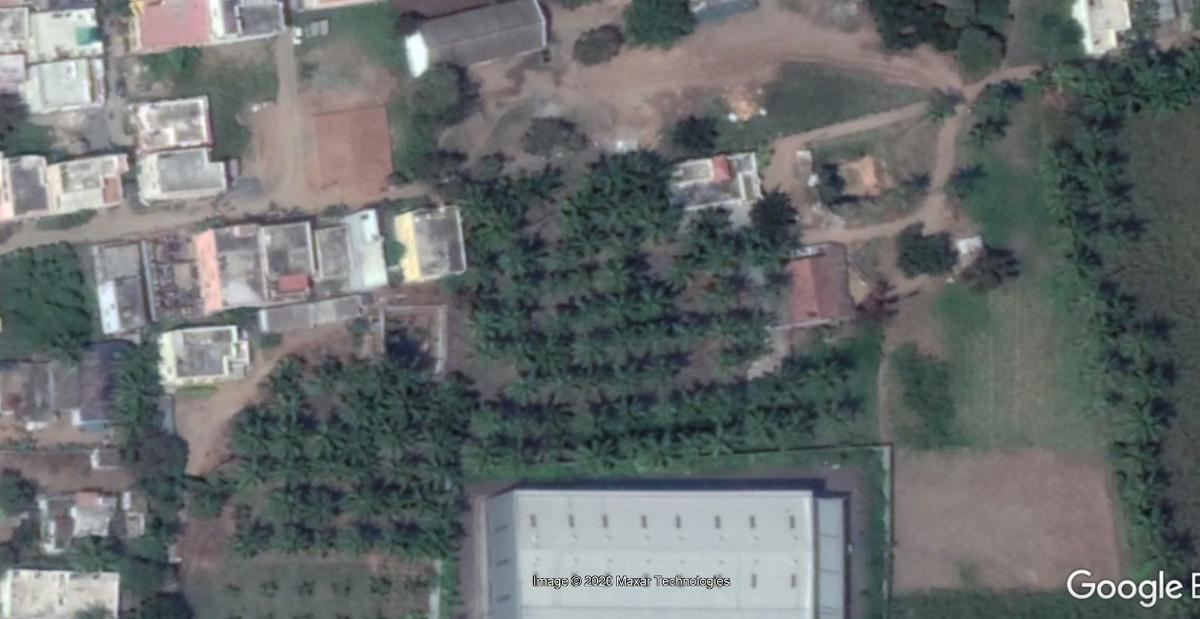coconut: (684, 202, 733, 255), (700, 308, 751, 355), (1077, 77, 1126, 121), (526, 335, 575, 378), (72, 532, 120, 575), (384, 377, 426, 426), (634, 427, 676, 476), (1109, 440, 1162, 478), (112, 364, 157, 408), (570, 441, 616, 483), (1044, 179, 1091, 220), (1124, 400, 1172, 440), (451, 180, 491, 228), (229, 512, 271, 557), (458, 296, 501, 339), (818, 398, 863, 439), (1127, 470, 1178, 506), (598, 393, 645, 432), (815, 353, 857, 396), (1134, 45, 1179, 85), (510, 239, 560, 275), (1083, 349, 1129, 388), (671, 114, 719, 150), (532, 395, 574, 436), (1134, 502, 1174, 544), (612, 349, 655, 388), (570, 221, 614, 259), (1038, 136, 1079, 176), (466, 435, 512, 470), (777, 403, 816, 444), (1144, 539, 1188, 575), (582, 353, 621, 393), (700, 421, 745, 455), (497, 294, 534, 335), (353, 477, 388, 520), (417, 424, 460, 459), (1147, 81, 1186, 119), (316, 413, 348, 459), (968, 114, 1008, 150), (229, 461, 272, 494), (637, 281, 674, 318), (471, 396, 502, 439), (771, 362, 807, 399), (561, 187, 598, 223), (1091, 299, 1128, 334), (747, 406, 781, 444), (48, 332, 89, 363), (1146, 352, 1181, 388), (279, 521, 316, 555), (1109, 209, 1149, 239), (1136, 314, 1176, 344), (671, 422, 697, 467), (1100, 137, 1140, 166), (949, 164, 982, 199), (1097, 171, 1133, 203), (276, 481, 307, 518), (1069, 241, 1105, 272), (609, 289, 640, 325), (524, 443, 560, 472), (270, 409, 301, 440)
